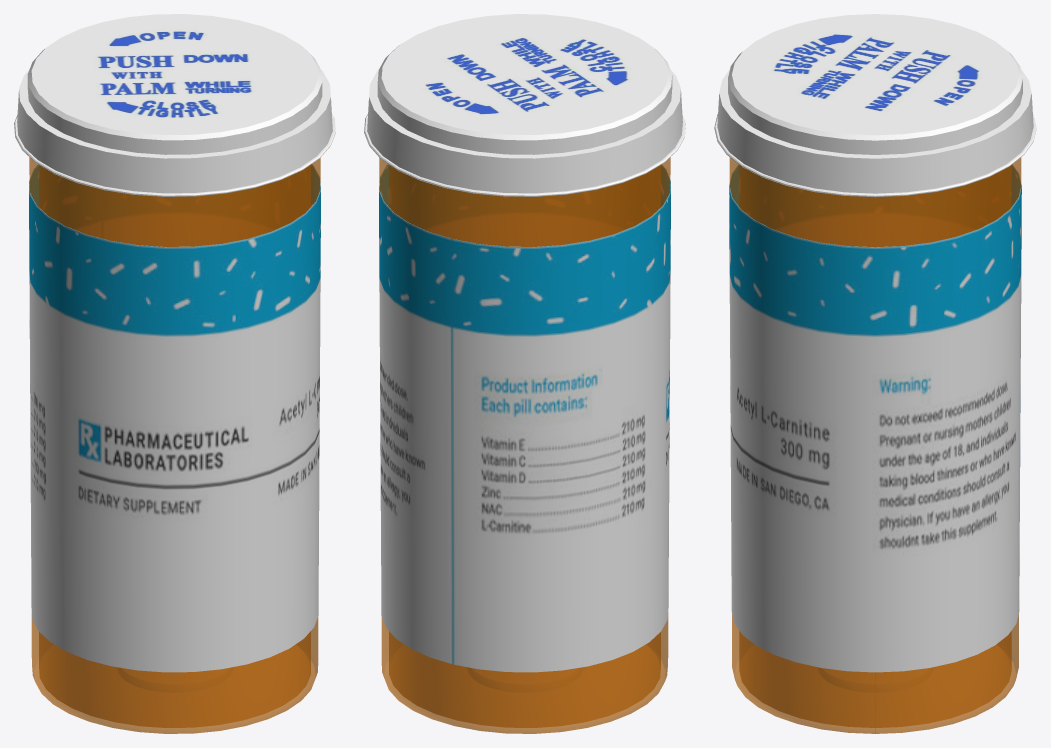
Rendered from Pill Bottle.FBX.
3 renders of one model, left to right at view 1: azimuth 30°, elevation 25°; view 2: azimuth 150°, elevation 25°; view 3: azimuth 270°, elevation 25°, orthographic.
Visible parts, largest first — view 1: Pill Bottle; view 2: Pill Bottle; view 3: Pill Bottle.
Part boxes in pixels (bbox=[...]): Pill Bottle: bbox=[14, 14, 335, 733]; Pill Bottle: bbox=[364, 14, 685, 733]; Pill Bottle: bbox=[714, 14, 1036, 733].
Size of the model in its own units: 71.47 by 147 by 71.47.
5 materials, 4 textured.
